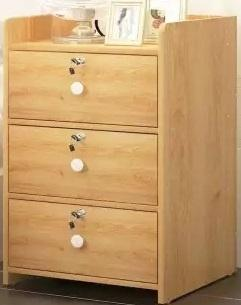cabinet_door: (10, 129, 160, 199), (10, 204, 160, 274), (8, 54, 156, 123)
handle: (70, 233, 86, 254), (70, 157, 86, 177), (70, 79, 85, 100)
